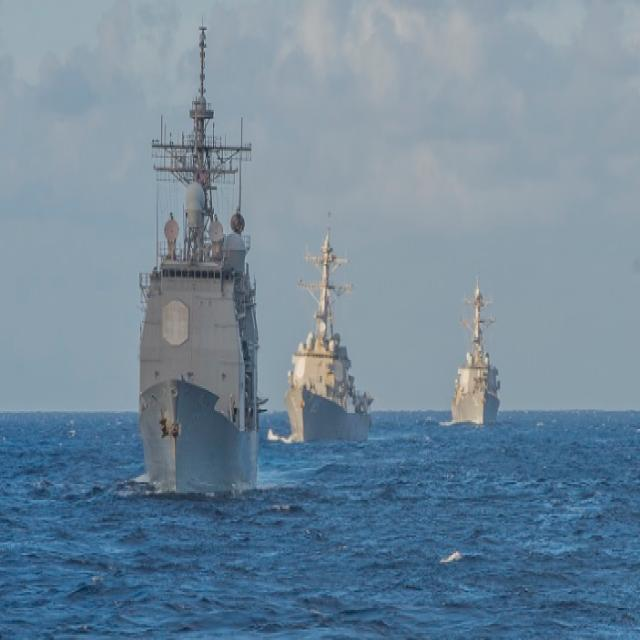navalvessels: (116, 34, 266, 490), (294, 212, 378, 440), (433, 269, 514, 431)
